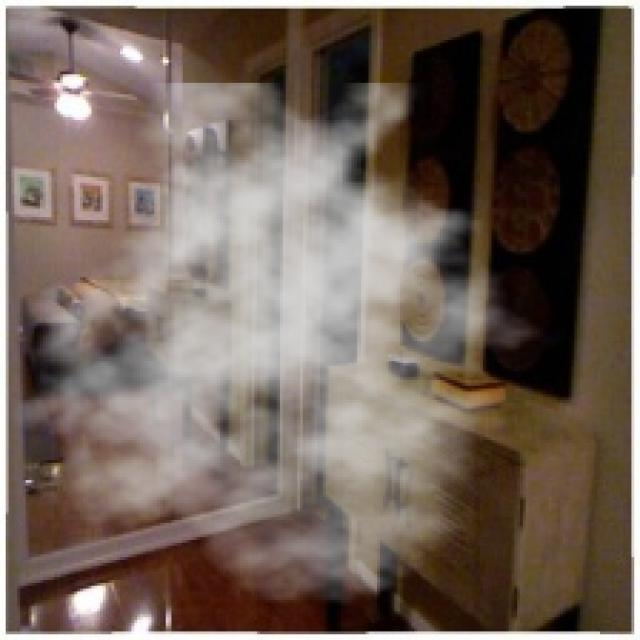Smoke: (11, 83, 566, 606)
